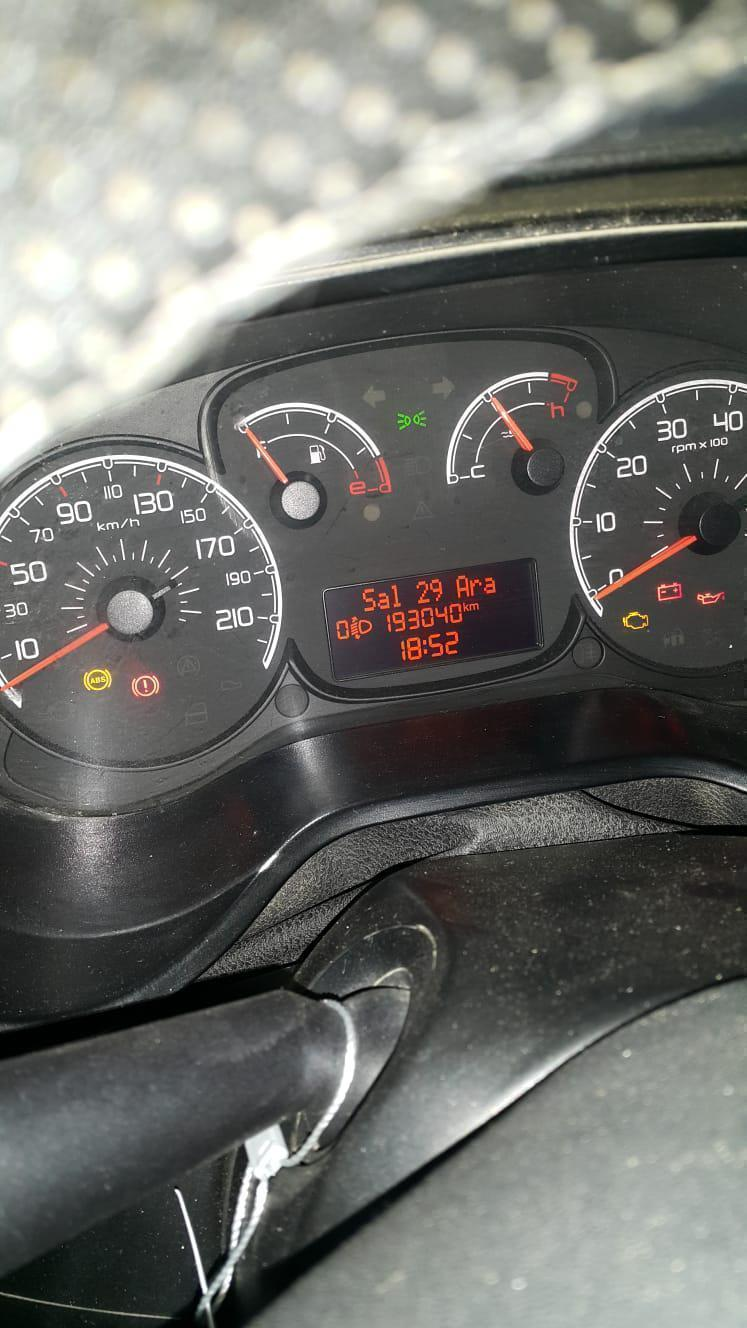0: (335, 619, 350, 640), (449, 603, 463, 623), (420, 607, 434, 627)
1: (399, 639, 406, 661), (385, 612, 392, 632)
2: (415, 578, 430, 605), (444, 631, 460, 654)
3: (407, 609, 420, 629)
4: (434, 606, 448, 624)
5: (428, 632, 444, 657)
8: (406, 635, 422, 660)
9: (429, 578, 444, 602), (391, 610, 406, 633)
X: (361, 586, 376, 612), (455, 574, 469, 598), (390, 583, 402, 608), (469, 578, 482, 597), (377, 591, 390, 610), (484, 577, 496, 594), (422, 638, 428, 656), (469, 602, 480, 611), (462, 602, 469, 612)
odometer: (319, 556, 546, 685)
